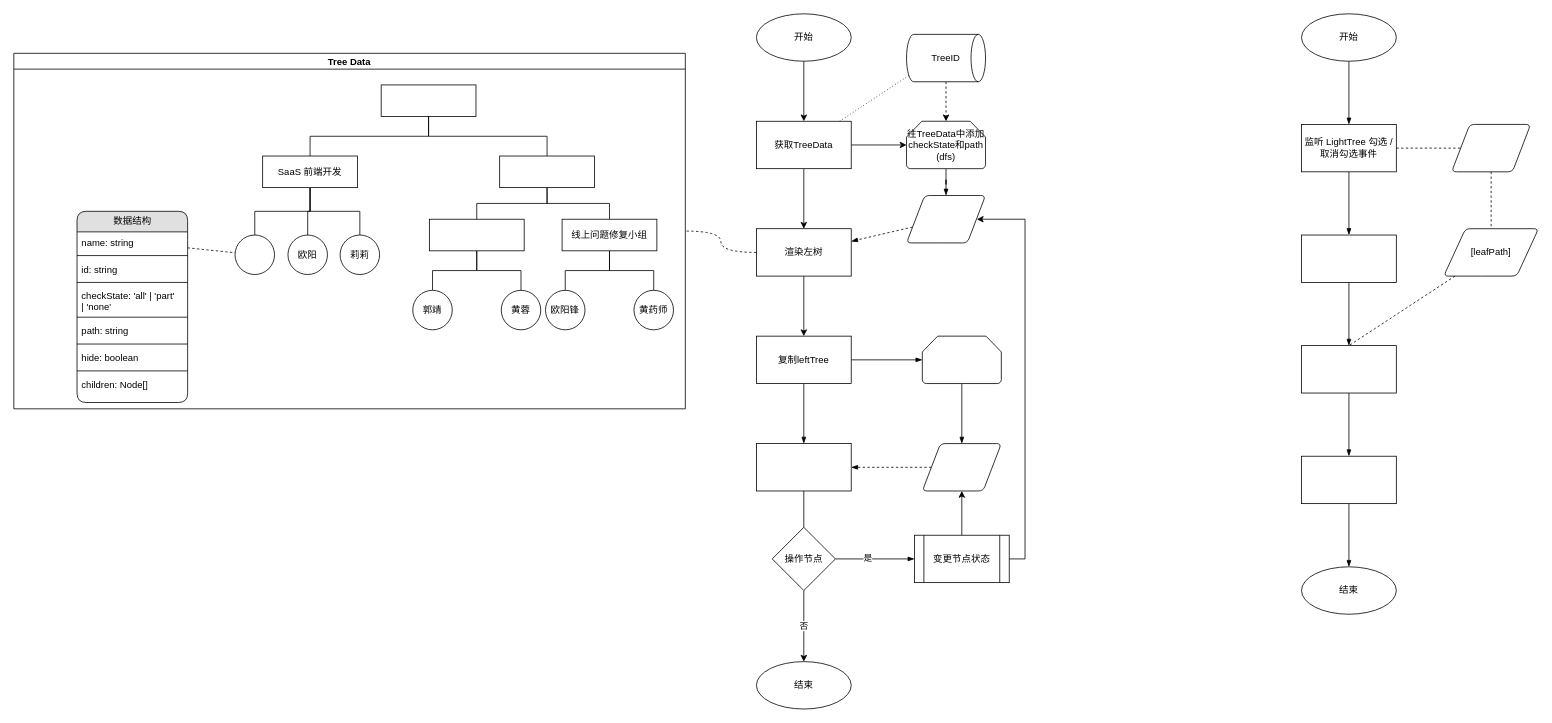
This 1552x723 diagram has some shape labels left out. Here are the shapes that lost their labels. From the top down, the centre of each, then its label:
the point at 428,100: 全部
the point at 1491,148: curNode
the point at 546,171: SaaS 后端开发
the point at 476,234: 功能开发小组
the point at 946,219: leftTree
the point at 254,254: 雪狐
the point at 1348,258: 通过 curNode，获取它底下所有叶子节点
the point at 961,359: 往rightTree中添加hide，隐藏节点
the point at 1348,369: 根据 path 更新左右树节点的 checkState
the point at 803,467: 渲染右树
the point at 961,467: rightTree
the point at 1348,479: 更新左右树视图
